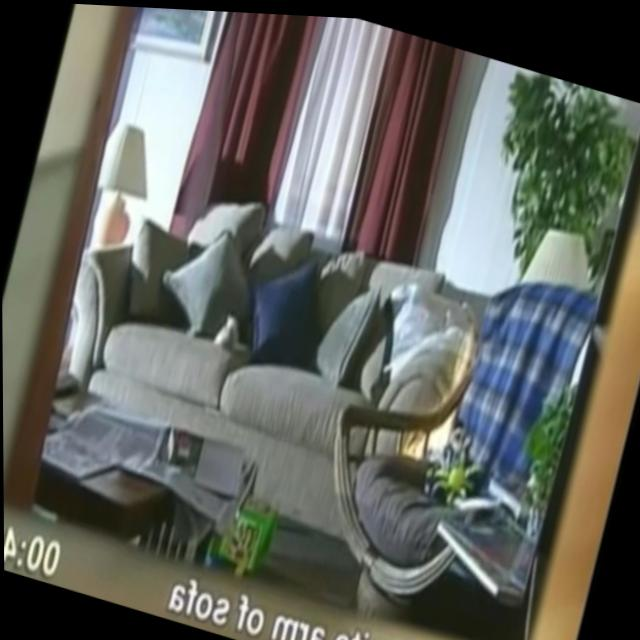fire: (408, 313, 481, 465)
